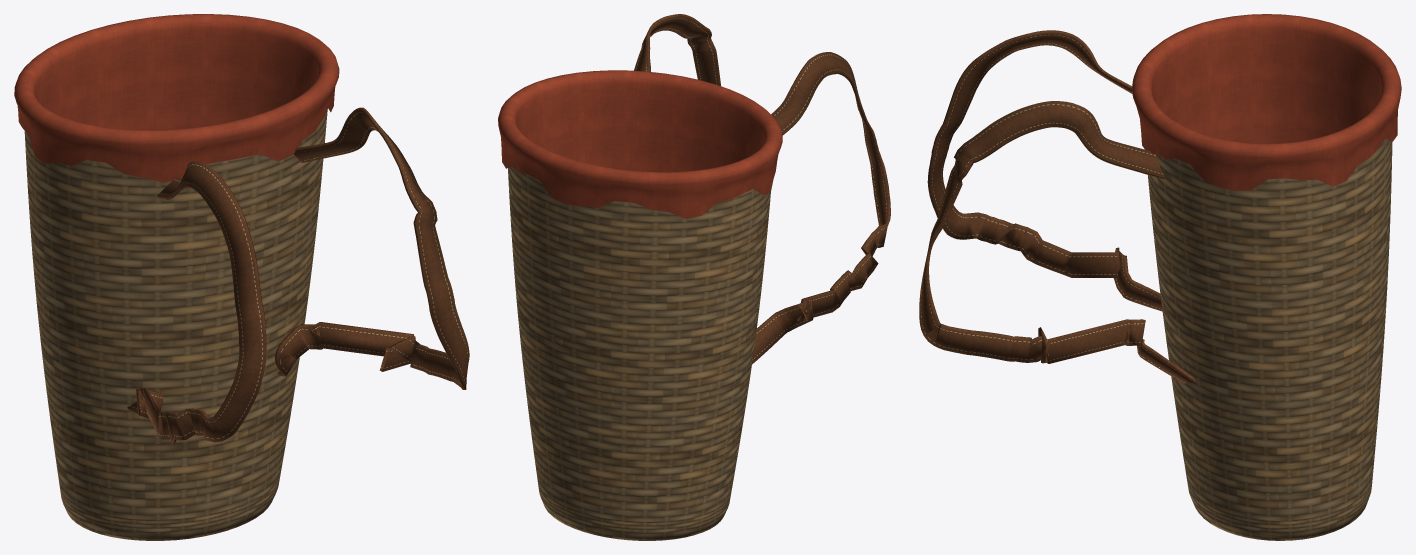
Rendered from prop-basket.glb.
The picture shows the model from 3 angles, left to right: view 1: azimuth 30°, elevation 25°; view 2: azimuth 150°, elevation 25°; view 3: azimuth 270°, elevation 25°; orthographic projection. The views are drawn at different scales.
Parts seen in each view (by area): view 1: basket, straps-forager-m; view 2: basket, straps-forager-m; view 3: basket, straps-forager-m.
Part boxes in pixels (x1,y1,x2,y2): basket: (14, 14, 339, 540); straps-forager-m: (127, 107, 469, 443); basket: (498, 70, 782, 540); straps-forager-m: (634, 14, 890, 364); basket: (1132, 14, 1401, 540); straps-forager-m: (919, 30, 1198, 384).
Size of the model in its own units: 0.4 by 0.5938 by 0.59.
3 materials, 3 textured.
